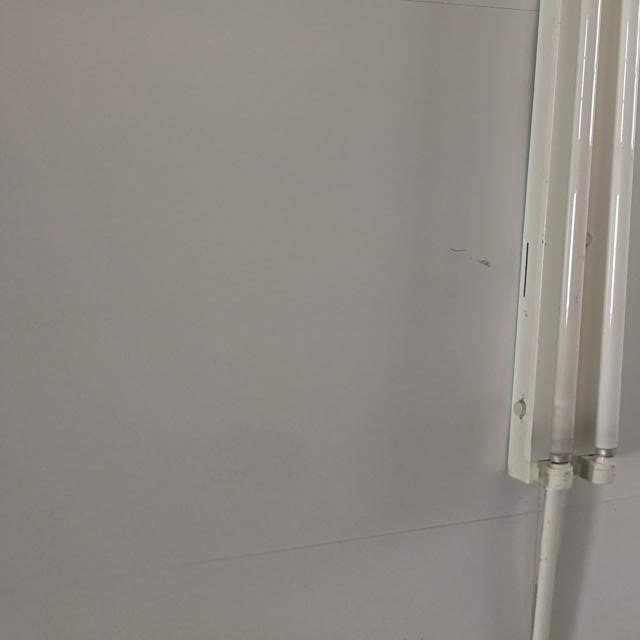fluorescent tube: (479, 0, 640, 537)
